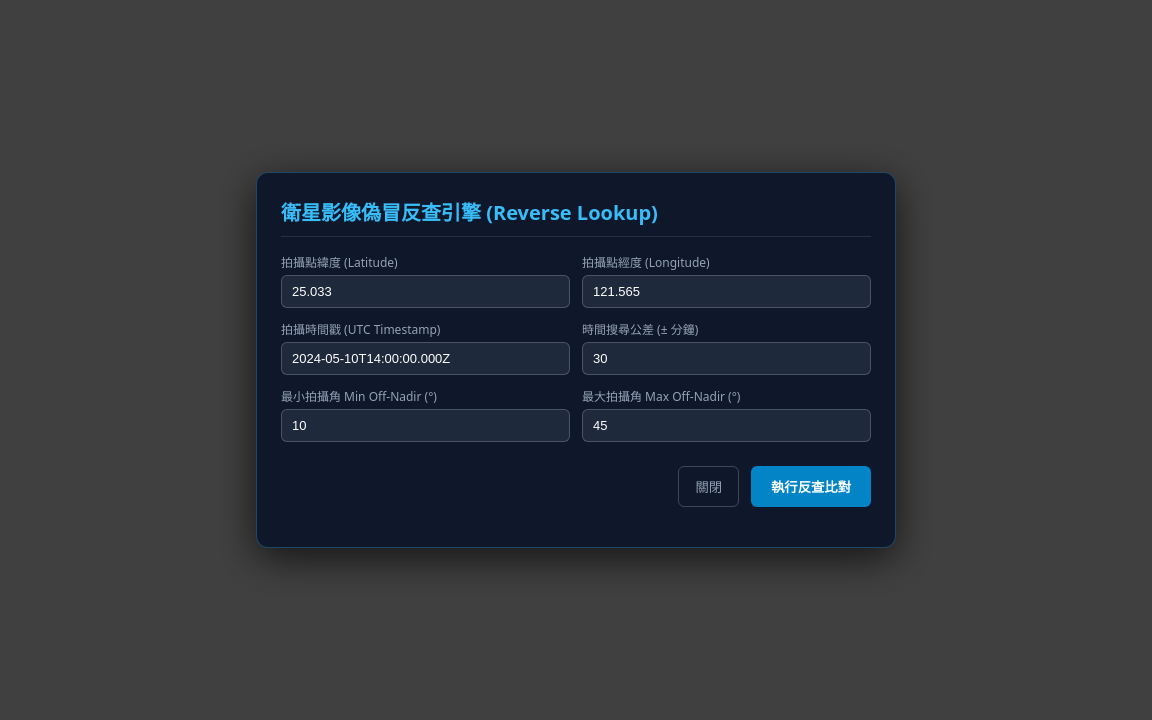
Scenario: ReverseLookupModal › renders modal and executes search button
What coordinates should you click on to do the following:
click the button with test id "run-reverse-lookup-btn"
I would click on:
 (811, 486)
Its box is [751, 466, 871, 507].
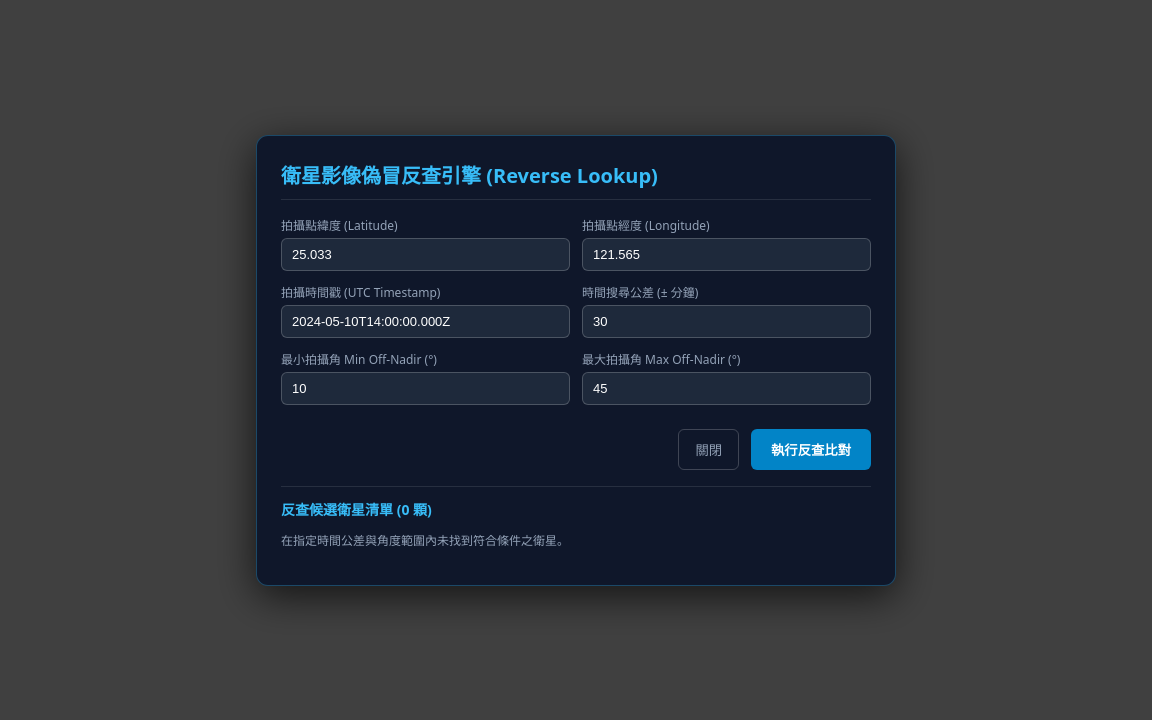
Expected: the element with test id "lookup-results-area" is shown, [281, 486, 871, 560]
